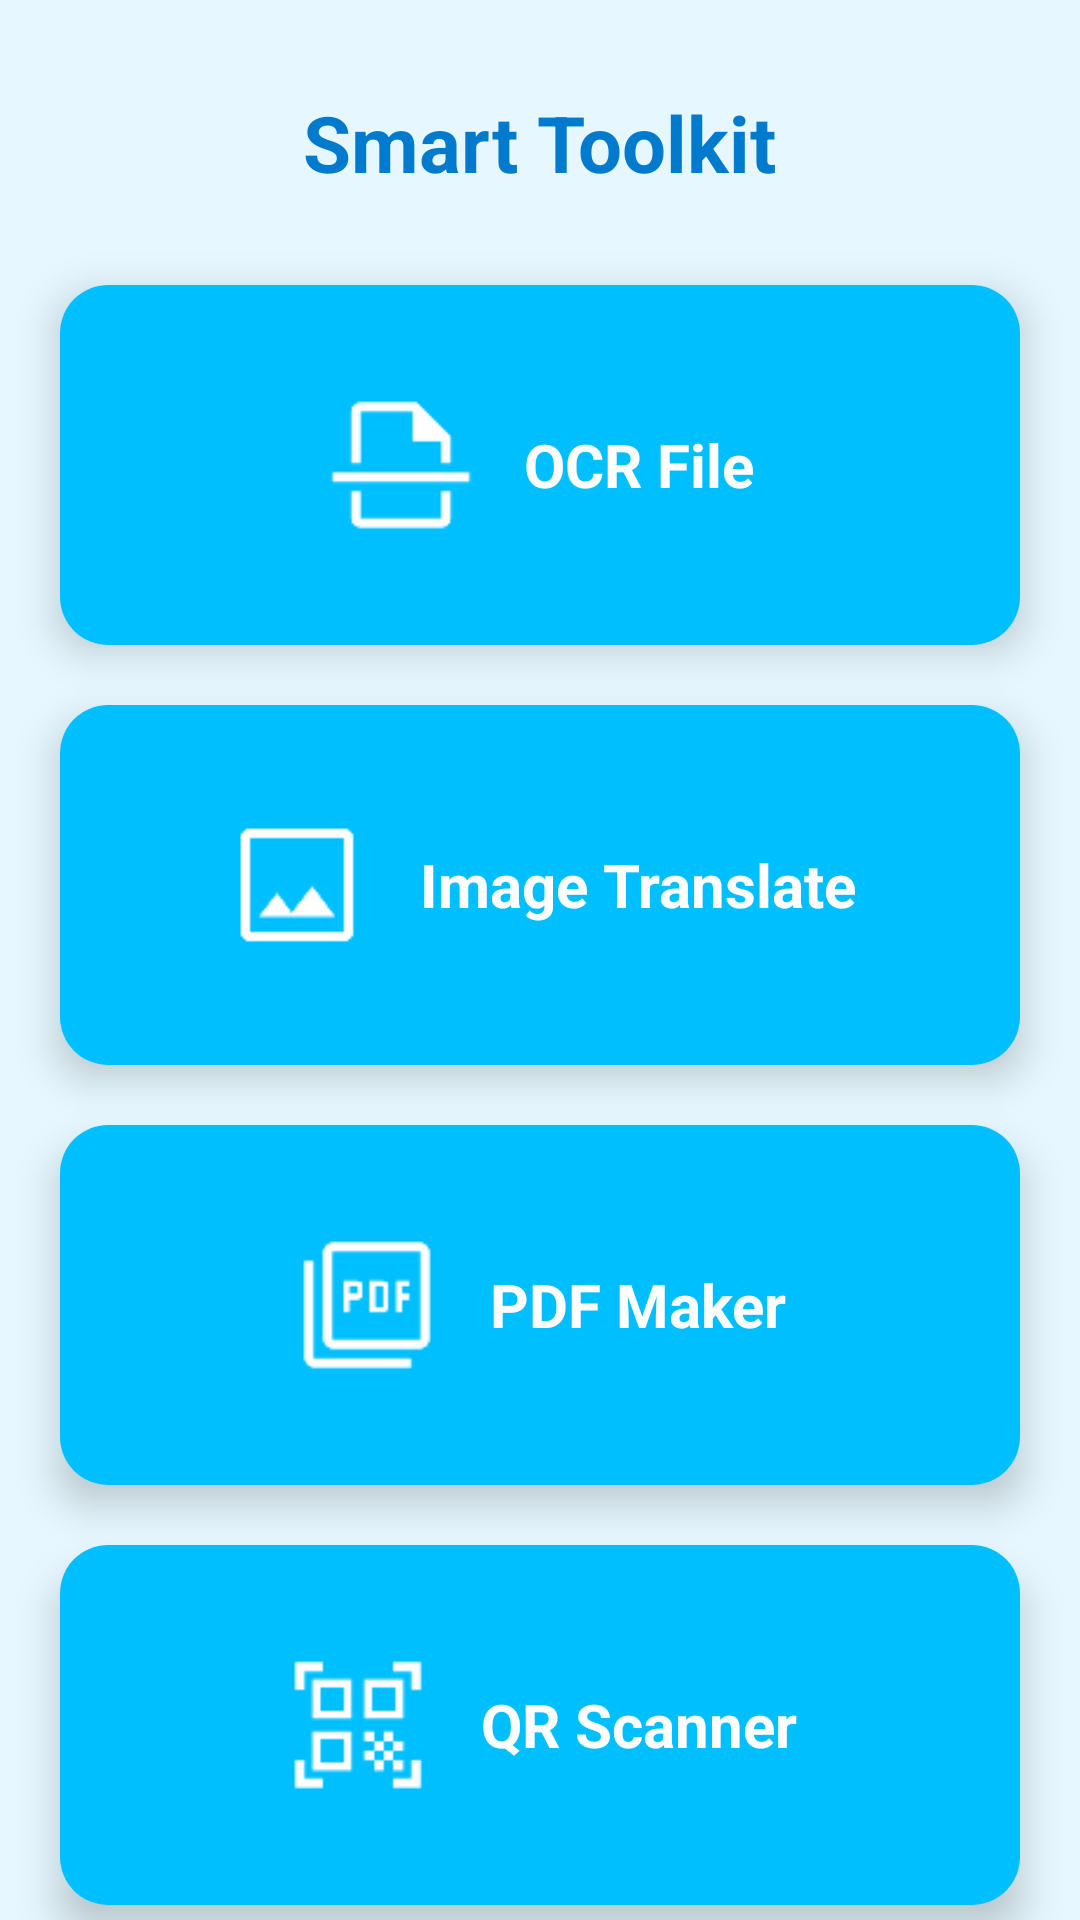

Screen size 1080 x 1920. Icon name, then its center in pixels as [x,y]:
gallery: [297,885]
